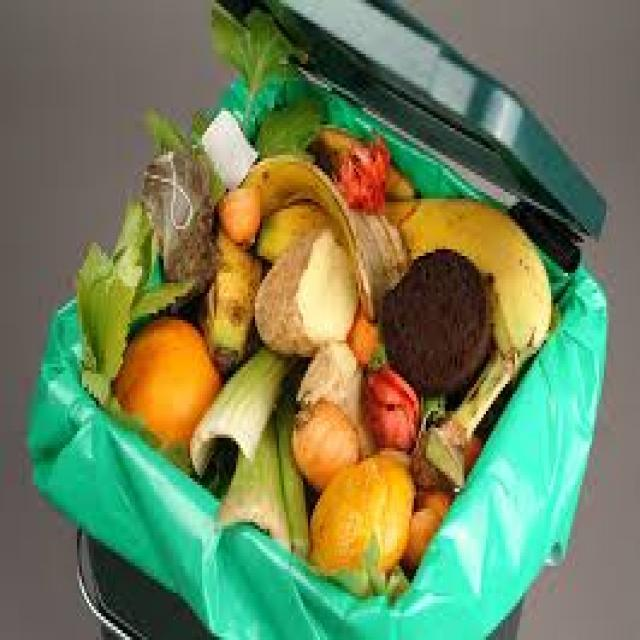Wet: (75, 47, 542, 598), (369, 244, 504, 402), (128, 127, 246, 296), (243, 236, 375, 350), (208, 167, 278, 254)
